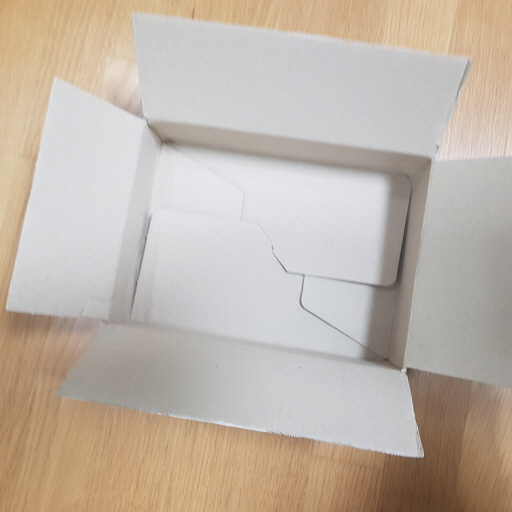Paper_0: (5, 10, 512, 460)
